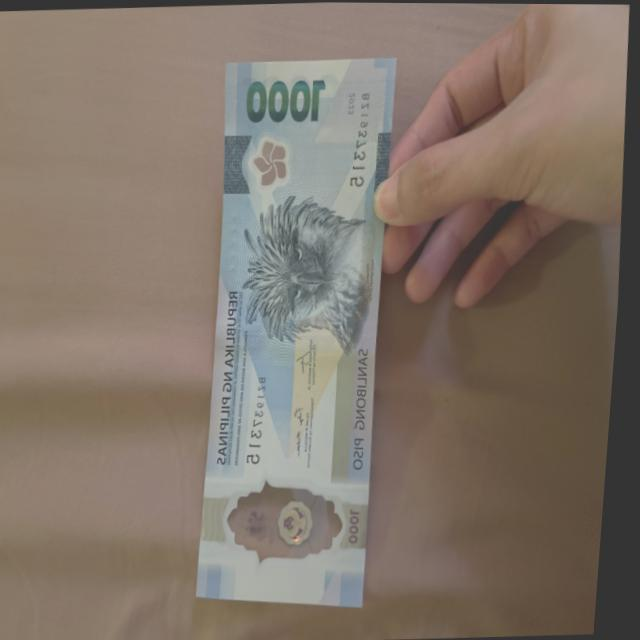clear_window: (222, 473, 354, 568)
eagle: (241, 197, 373, 347)
sampaguita: (249, 135, 294, 190)
